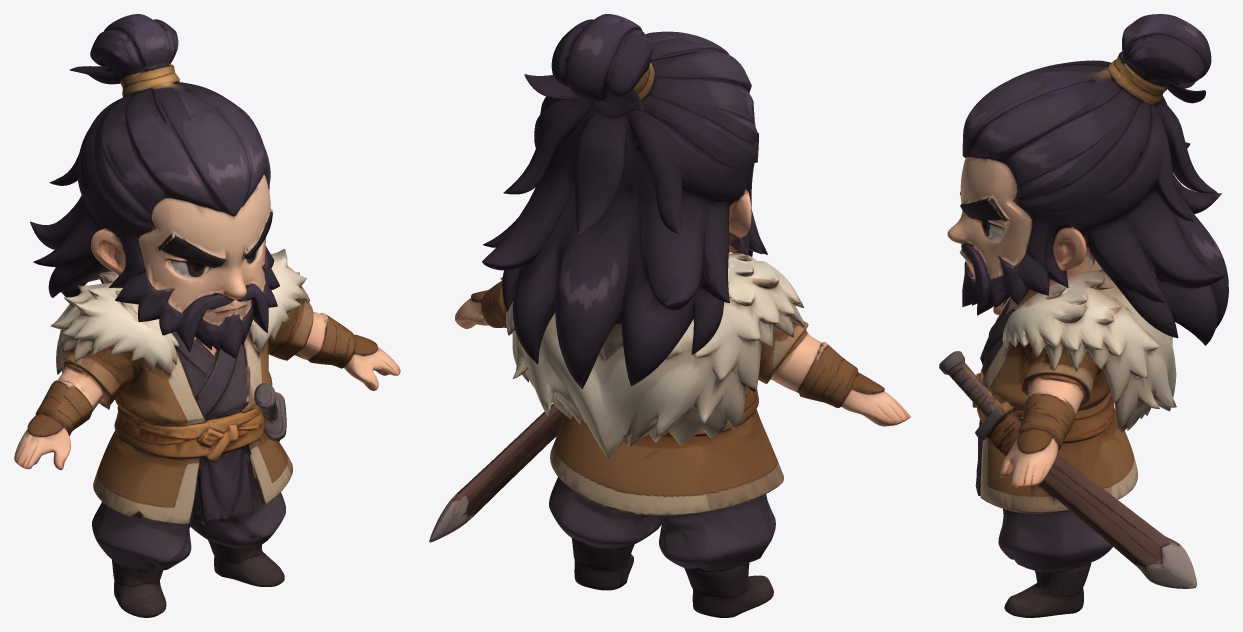
The model's file is monter1_glb_mixamo_170028.fbx.
The picture shows the model from 3 angles, left to right: view 1: azimuth 30°, elevation 25°; view 2: azimuth 150°, elevation 25°; view 3: azimuth 270°, elevation 25°; orthographic projection. The views are drawn at different scales.
Visible parts, largest first — view 1: tripo_node_325368b5-a1fc-4b67-a880-058a38d2e06c; view 2: tripo_node_325368b5-a1fc-4b67-a880-058a38d2e06c; view 3: tripo_node_325368b5-a1fc-4b67-a880-058a38d2e06c.
Part boxes in pixels (x1,y1,x2,y2): tripo_node_325368b5-a1fc-4b67-a880-058a38d2e06c: (14,14,400,617); tripo_node_325368b5-a1fc-4b67-a880-058a38d2e06c: (429,14,910,617); tripo_node_325368b5-a1fc-4b67-a880-058a38d2e06c: (939,14,1228,617).
Bounding box in the file's own units: 1.37 × 1.8 × 0.8424.
Materials: 1 (1 with a texture image).
